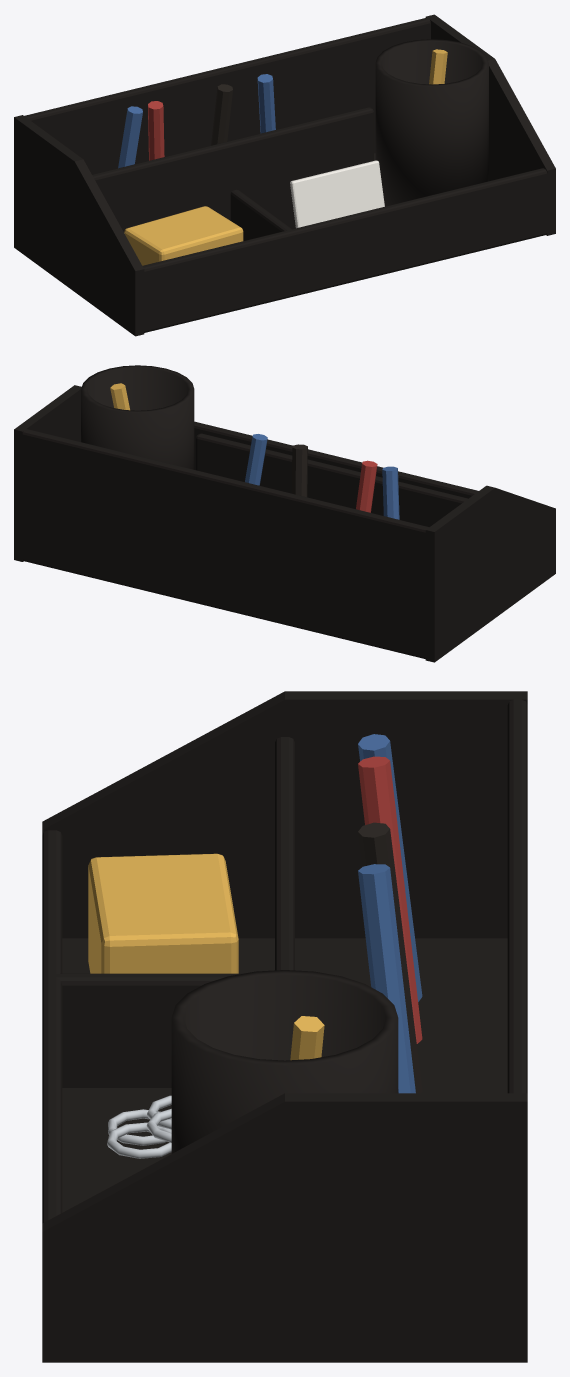
File: hh_cat_desk_tidy.glb
3 renders of one model, top to bottom at view 1: azimuth 30°, elevation 25°; view 2: azimuth 150°, elevation 25°; view 3: azimuth 270°, elevation 25°, orthographic. The views are drawn at different scales.
Visible parts, largest first — view 1: tidy_front, tidy_wall, divider, tidy_cup, tidy_side, tidy_side.001, card, sticky_notes, divider.001, pen, pen.002, pen.001 (+3 smaller); view 2: tidy_wall, tidy_side, tidy_cup, divider, tidy_front, tidy_side.001, tidy_floor, pen, pen.002, pen.001, pen.003, pencil; view 3: tidy_side.001, tidy_side, tidy_floor, tidy_cup, sticky_notes, divider.001, tidy_wall, tidy_front, pen.003, divider, pen.001, pen.002 (+4 smaller).
Boxes of the visible parts, x1,y1,x2,y2 form: tidy_front: [138, 168, 553, 332]; tidy_wall: [18, 16, 434, 174]; divider: [73, 107, 373, 288]; tidy_cup: [375, 39, 488, 206]; tidy_side: [14, 115, 144, 336]; tidy_side.001: [425, 14, 555, 235]; card: [290, 160, 384, 228]; sticky_notes: [124, 206, 243, 265]; divider.001: [230, 189, 294, 292]; pen: [118, 106, 142, 168]; pen.002: [211, 84, 232, 145]; pen.001: [148, 101, 164, 160]; tidy_wall: [16, 429, 434, 658]; tidy_side: [425, 485, 555, 662]; tidy_cup: [81, 365, 194, 469]; divider: [196, 433, 496, 615]; tidy_front: [194, 421, 554, 573]; tidy_side.001: [14, 385, 81, 561]; tidy_floor: [181, 567, 554, 658]; pen: [382, 466, 399, 519]; pen.002: [291, 444, 307, 497]; pen.001: [356, 460, 377, 512]; pen.003: [245, 434, 267, 485]; pencil: [110, 383, 129, 410]; tidy_side.001: [42, 1093, 527, 1362]; tidy_side: [42, 691, 527, 938]; tidy_floor: [49, 938, 520, 1355]; tidy_cup: [171, 970, 398, 1153]; sticky_notes: [88, 853, 238, 973]; divider.001: [48, 973, 242, 1087]; tidy_wall: [507, 693, 527, 1356]; tidy_front: [42, 830, 62, 1223]; pen.003: [358, 864, 415, 1093]; divider: [275, 737, 294, 970]; pen.001: [358, 756, 422, 1043]; pen.002: [358, 822, 422, 1093].
Size of the model in its own units: 0.24 by 0.08 by 0.12.
